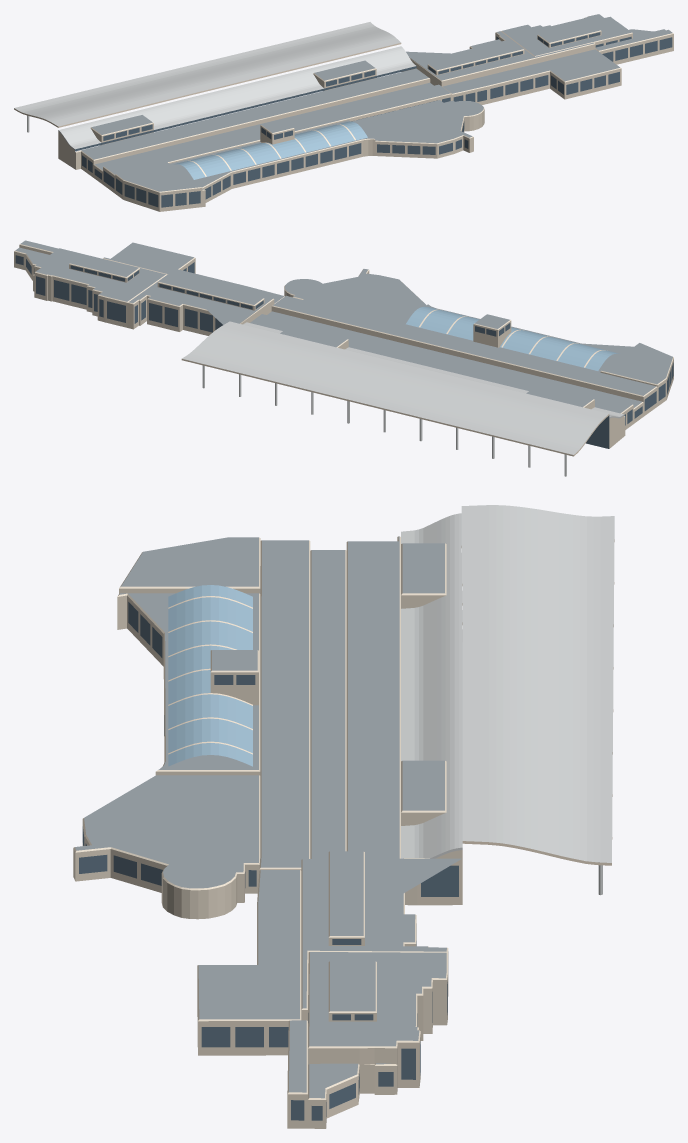
The model's file is clt-terminal.glb.
The picture shows the model from 3 angles, top to bottom: view 1: azimuth 30°, elevation 25°; view 2: azimuth 150°, elevation 25°; view 3: azimuth 270°, elevation 25°; orthographic projection. The views are drawn at different scales.
Visible parts, largest first — view 1: Charlotte Douglas International Airport Terminal; view 2: Charlotte Douglas International Airport Terminal; view 3: Charlotte Douglas International Airport Terminal.
Part boxes in pixels (left/top/right/bottom): Charlotte Douglas International Airport Terminal: left=14, top=14, right=673, bottom=211; Charlotte Douglas International Airport Terminal: left=14, top=240, right=673, bottom=476; Charlotte Douglas International Airport Terminal: left=73, top=505, right=614, bottom=1128.
Bounding box in the file's own units: 442 × 25 × 179.
